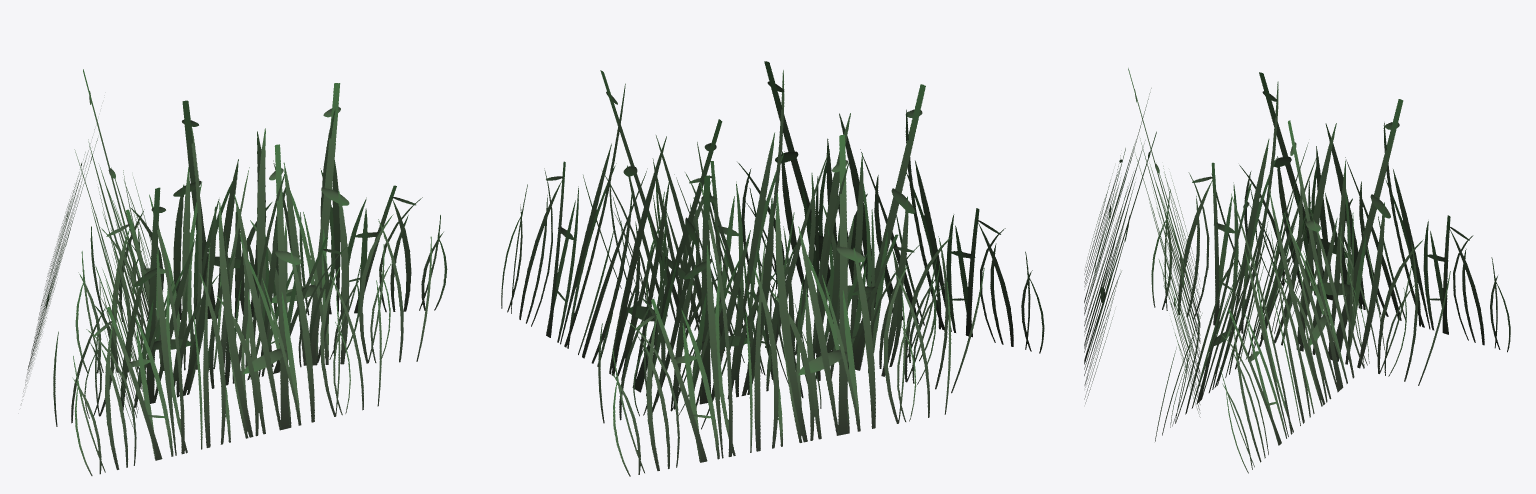
The model's file is Grass_Village.fbx.
3 renders of one model, left to right at view 1: azimuth 30°, elevation 25°; view 2: azimuth 150°, elevation 25°; view 3: azimuth 270°, elevation 25°, orthographic. The views are drawn at different scales.
Visible parts, largest first — view 1: Grass_Village; view 2: Grass_Village; view 3: Grass_Village.
Boxes of the visible parts, x1=… form: Grass_Village: x1=21, y1=69, x2=447, y2=475; Grass_Village: x1=501, y1=61, x2=1044, y2=476; Grass_Village: x1=1084, y1=68, x2=1510, y2=473.
Bounding box in the file's own units: 68.97 × 36.97 × 58.76.
